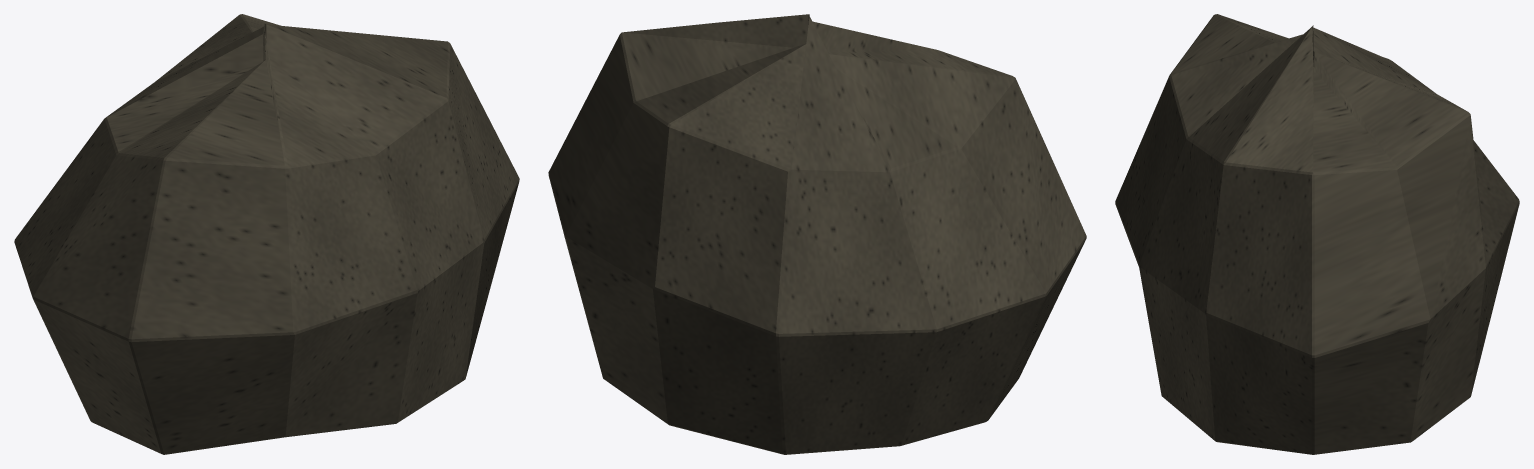
Rendered from PROP-4B85C37FDB2E_lod1.glb.
3 views of the same model, side by side, from view 1: azimuth 30°, elevation 25°; view 2: azimuth 150°, elevation 25°; view 3: azimuth 270°, elevation 25° (orthographic). The views are drawn at different scales.
Parts seen in each view (by area): view 1: rock.002; view 2: rock.002; view 3: rock.002.
Part boxes in pixels (x1,y1,x2,y2): rock.002: (14,14,519,454); rock.002: (548,14,1086,454); rock.002: (1115,14,1519,454).
Bounding box in the file's own units: 1.33 × 0.937 × 0.991.
1 material, 1 textured.
